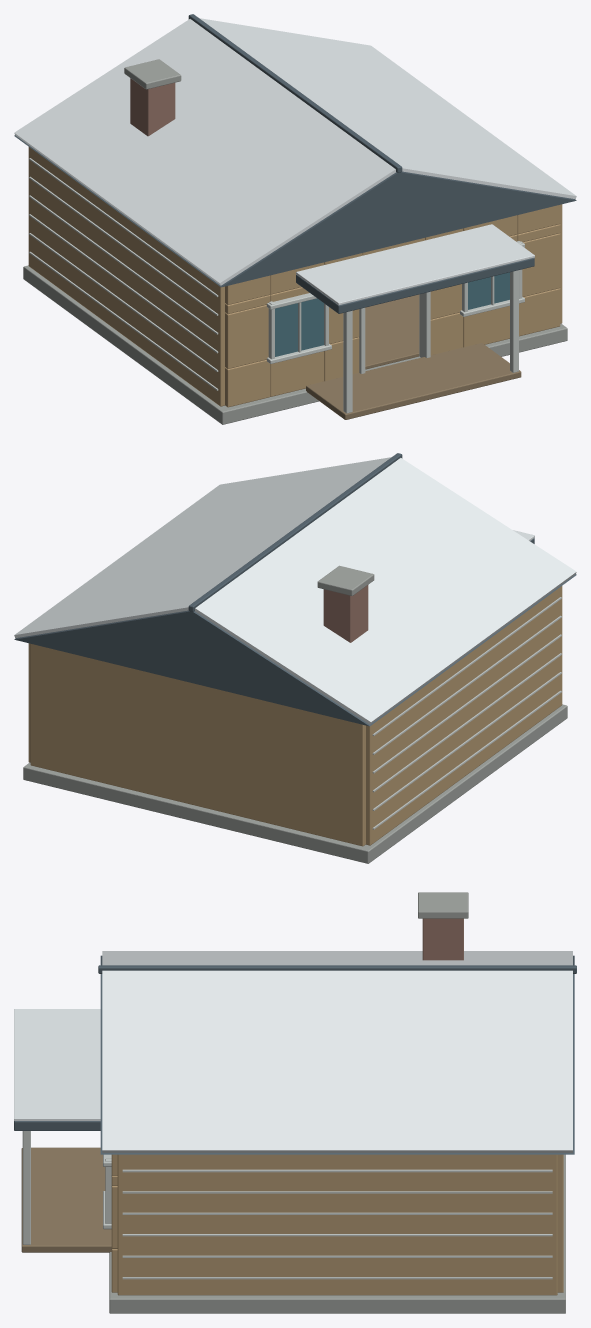
The model's file is house_cottage_ochre.glb.
3 renders of one model, top to bottom at view 1: azimuth 30°, elevation 25°; view 2: azimuth 150°, elevation 25°; view 3: azimuth 270°, elevation 25°, orthographic. The views are drawn at different scales.
Visible parts, largest first — view 1: house_cottage_ochre; view 2: house_cottage_ochre; view 3: house_cottage_ochre.
Boxes of the visible parts, x1,y1,x2,y2 form: house_cottage_ochre: (14,14,576,424); house_cottage_ochre: (14,453,576,863); house_cottage_ochre: (14,892,576,1313).
Bounding box in the file's own units: 8.58 × 5.25 × 10.23.
